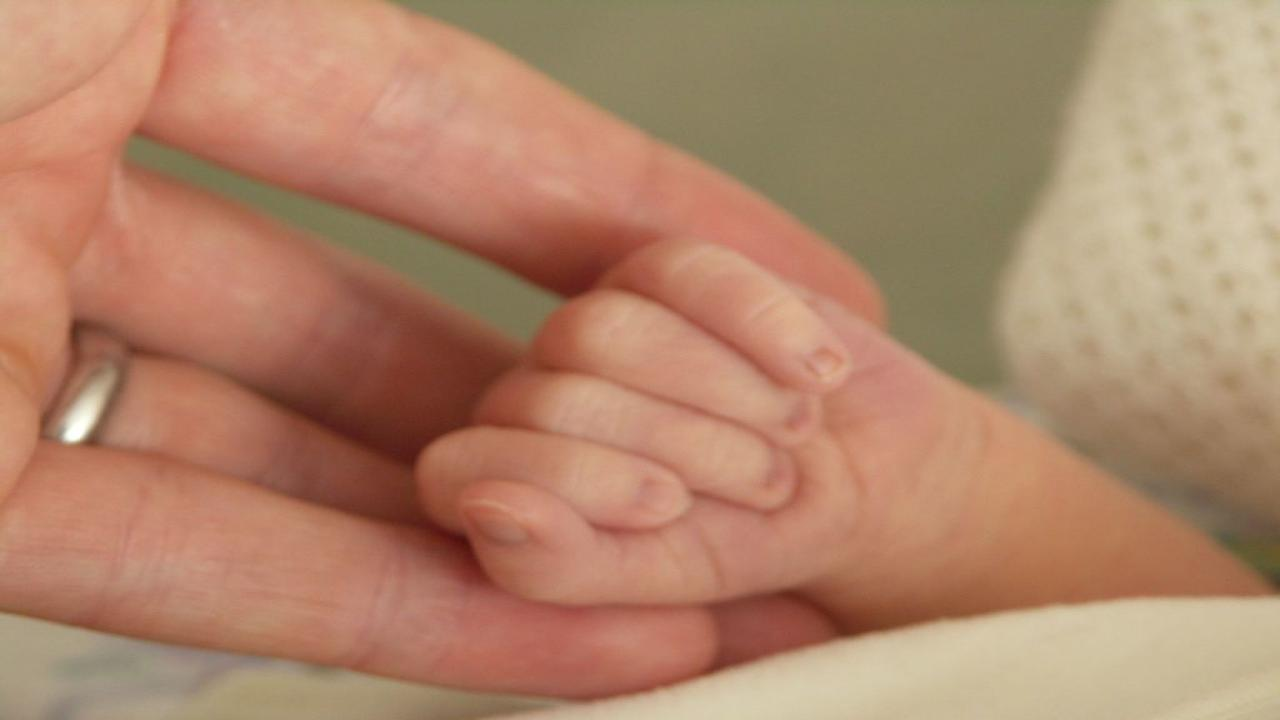ring: (35, 318, 136, 455)
